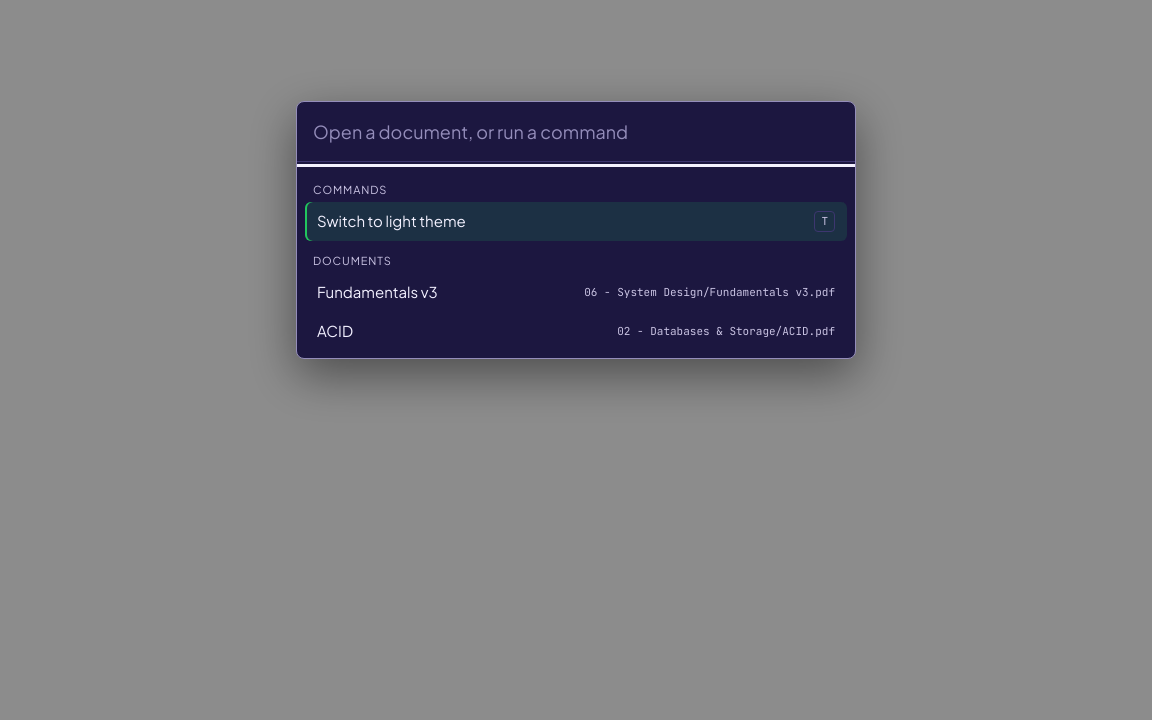
Test: the command palette › matches a document by its folder as well as its title
Type "Databases" into the dropdown at (576,132), box [297,102,855,162]
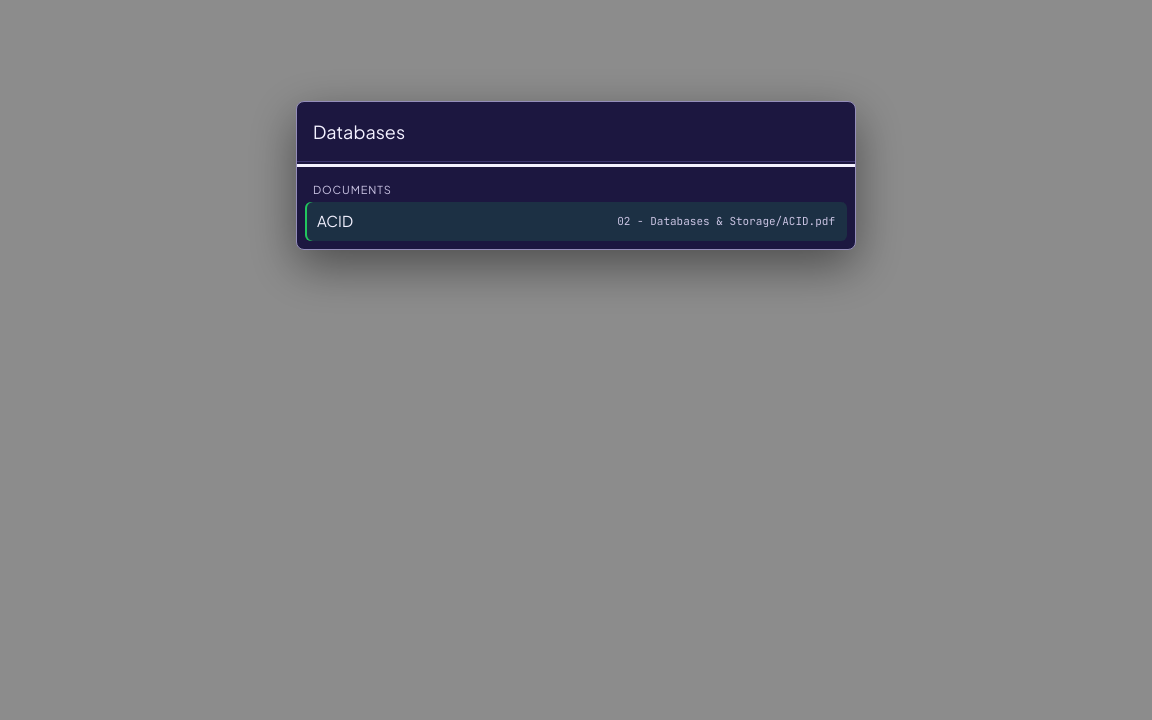
Check: the option "ACID 02 - Databases & Storage/ACID.pdf" is shown, box [305,202,847,241]
Check: the option "Fundamentals" is gone
